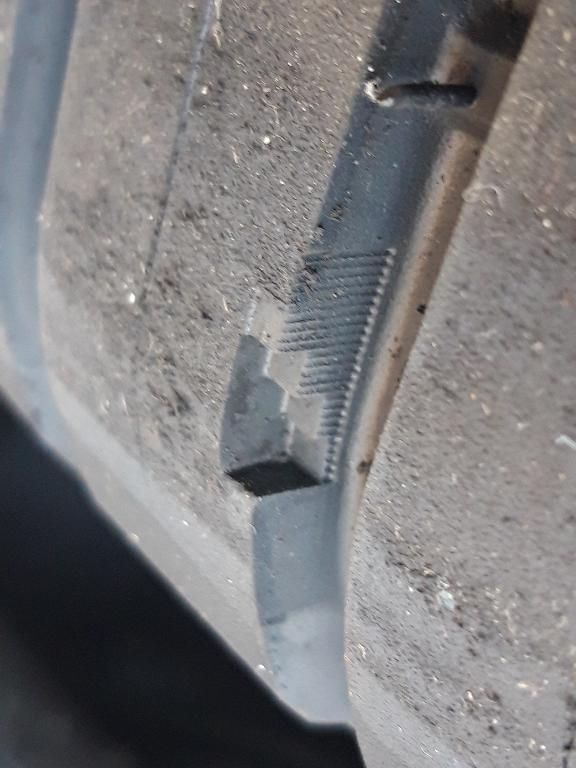temoin:75: (211, 282, 370, 507)
